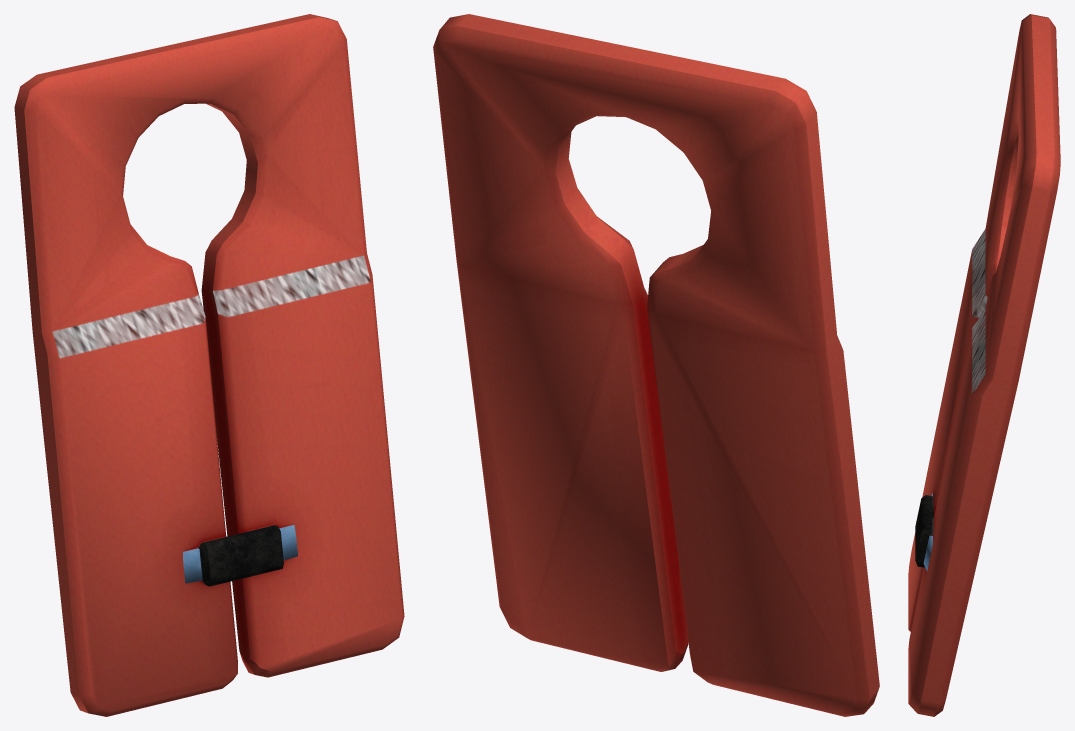
The model's file is salvavidas-plano.fbx.
3 views of the same model, side by side, from view 1: azimuth 30°, elevation 25°; view 2: azimuth 150°, elevation 25°; view 3: azimuth 270°, elevation 25° (orthographic). The views are drawn at different scales.
Parts seen in each view (by area): view 1: defaultMaterial; view 2: defaultMaterial; view 3: defaultMaterial.
Boxes of the visible parts, <box> form: defaultMaterial: <box>14,14,404,716</box>; defaultMaterial: <box>433,14,879,716</box>; defaultMaterial: <box>908,14,1060,716</box>.
Size of the model in its own units: 127 by 223 by 53.92.
1 material, 1 textured.
